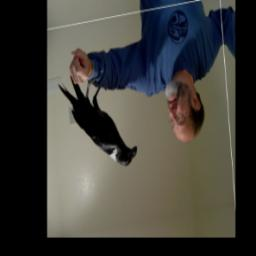Crow: (56, 64, 139, 182)
